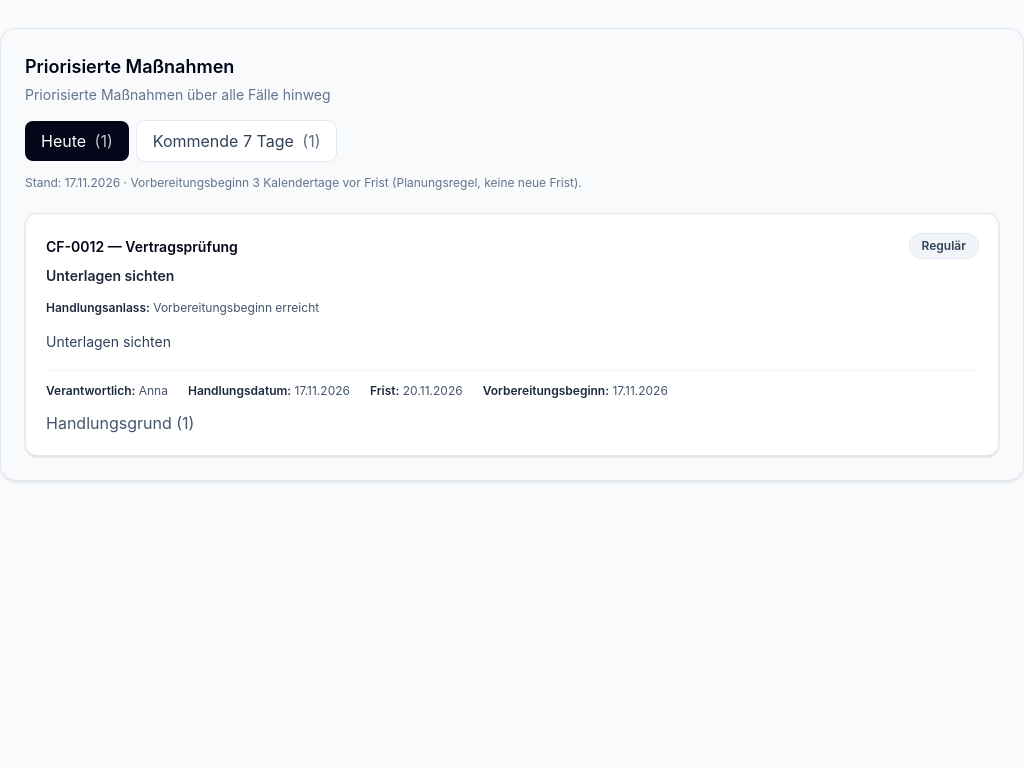
Test case: dashboard worklist › never repeats today's cards in the upcoming view, including older inclusive API responses
Expected: the link "CF-0012 — Vertragsprüfung" is shown, x1=46 y1=238 x2=238 y2=255
Click the button "Kommende 7 Tage (1)" at point(237, 141), box x1=137 y1=121 x2=336 y2=161
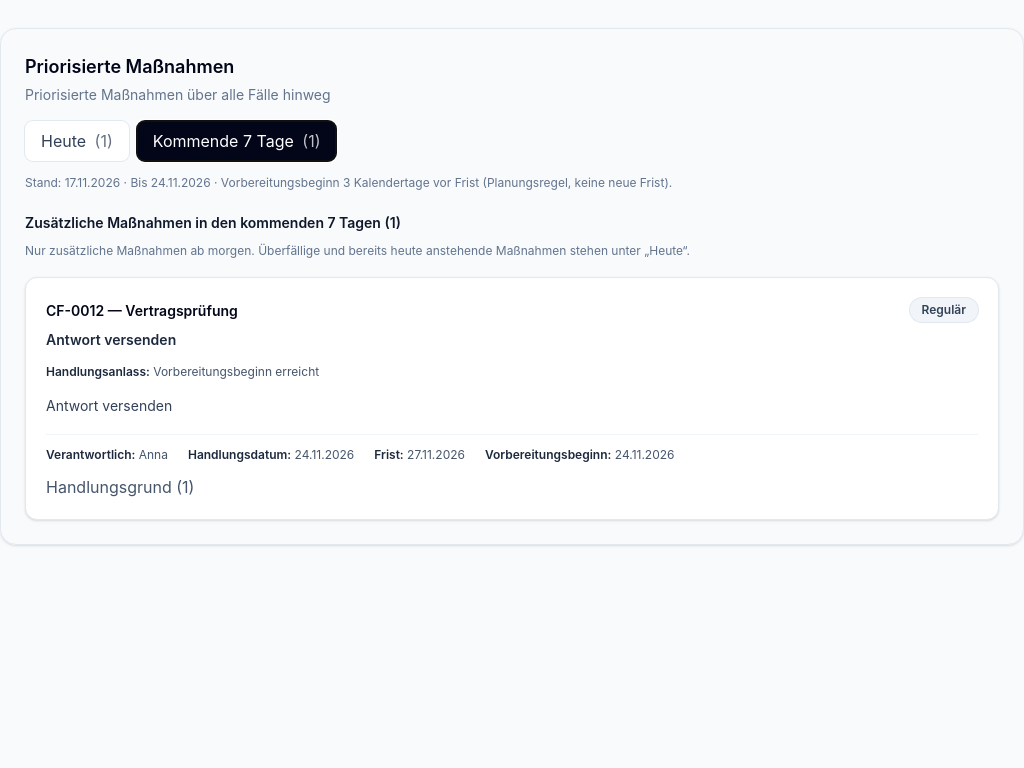
Expected: the number of headings "Antwort versenden" is 2, x1=46 y1=331 x2=176 y2=348; x1=46 y1=397 x2=172 y2=414
Result: the heading "Unterlagen sichten" is gone
Result: the element showing "Handlungsdatum: 24.11.2026" is shown at x1=188 y1=447 x2=354 y2=463
